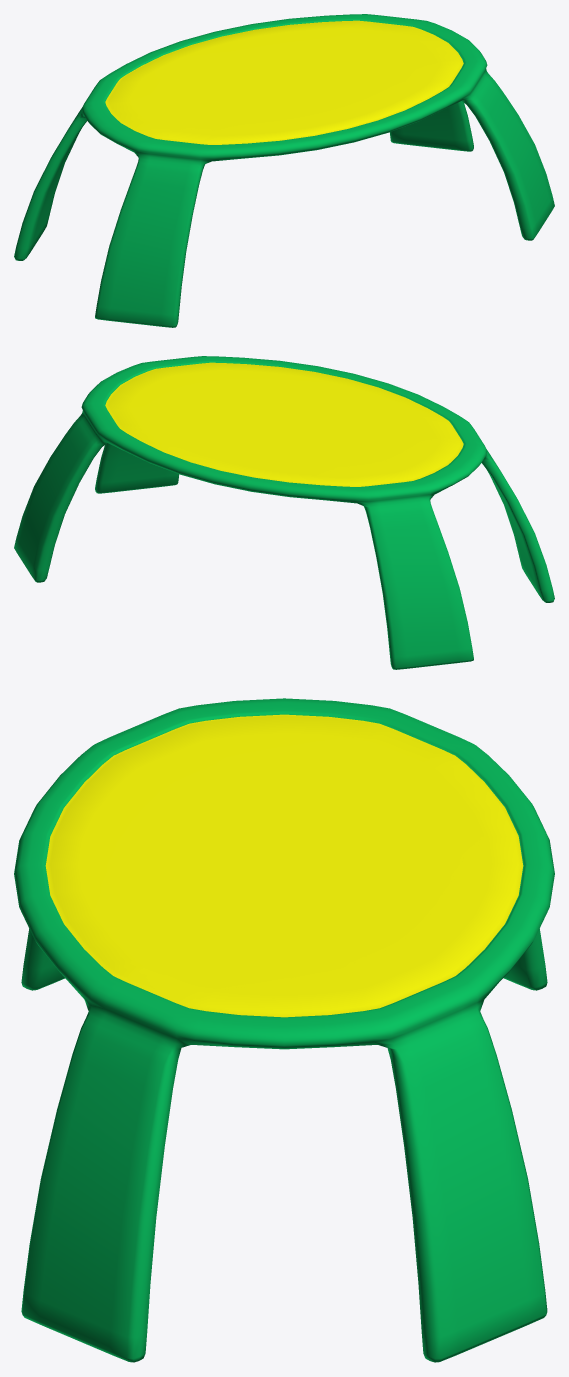
The model's file is froggytable.fbx.
3 renders of one model, top to bottom at view 1: azimuth 30°, elevation 25°; view 2: azimuth 150°, elevation 25°; view 3: azimuth 270°, elevation 25°, orthographic. The views are drawn at different scales.
Visible parts, largest first — view 1: Cube; view 2: Cube; view 3: Cube.
Part boxes in pixels (box(x1,y1,x2,y2)): Cube: box(14, 14, 554, 327); Cube: box(14, 356, 554, 669); Cube: box(14, 698, 554, 1362).
Bounding box in the file's own units: 473 × 150 × 255.
